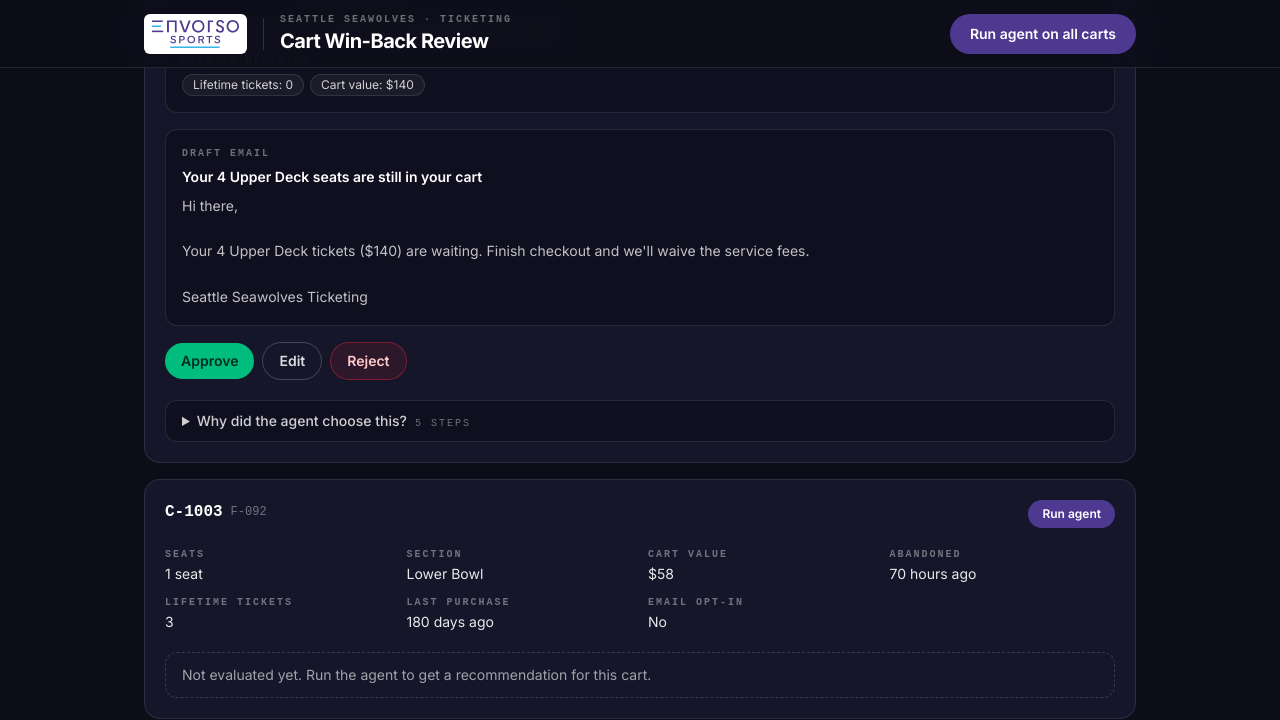
Scenario: ReviewQueue: review actions › posts an approval to /api/review and shows the recorded decision
(page scrolled)
Click the button "Approve" at [210, 361], box [165,343,254,379]
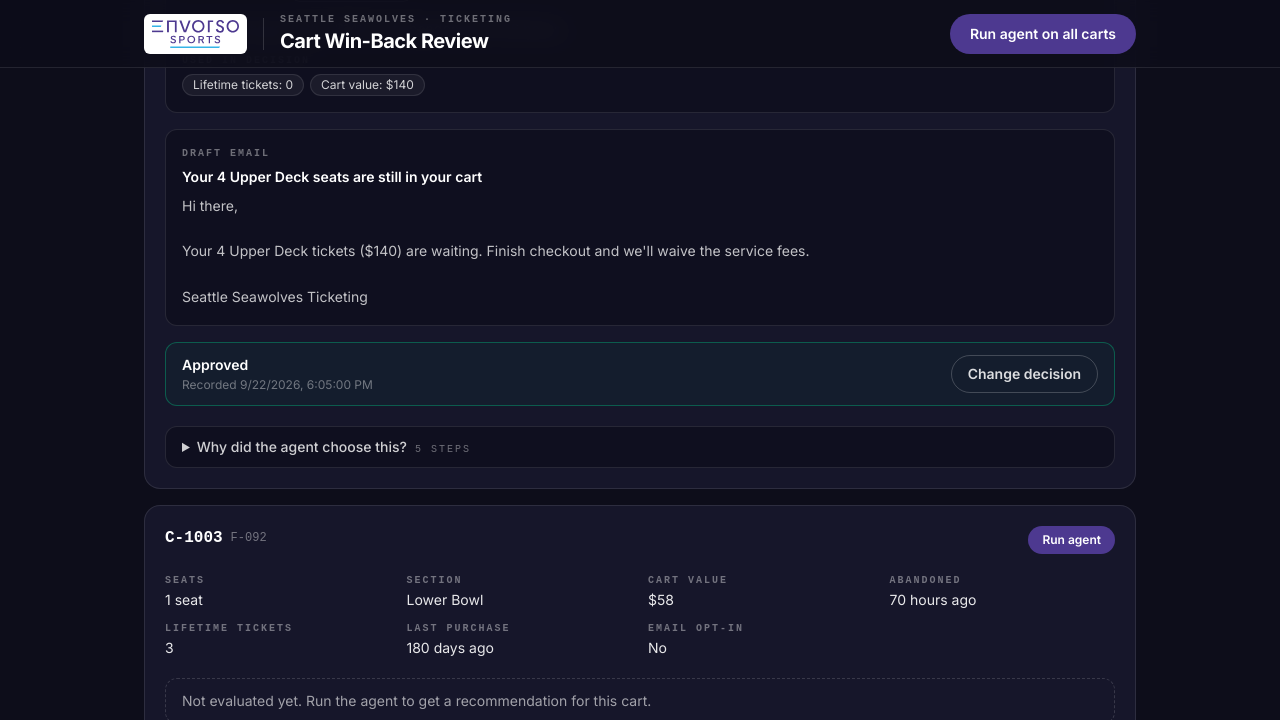
Expected: the element with test id "review-state" shows "Approved", [182,356,248,373]
